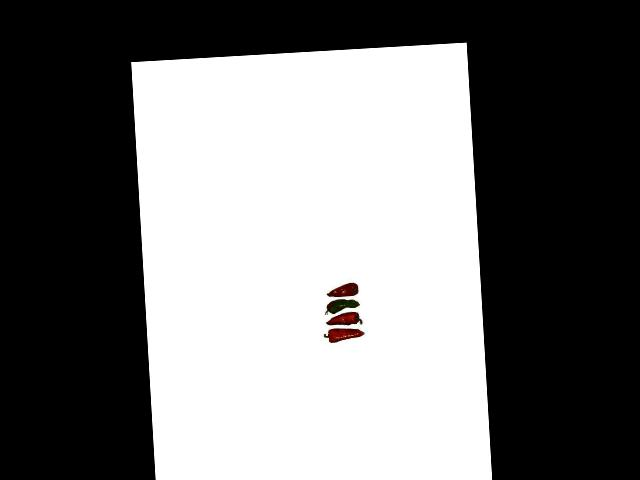bell_pepper: (323, 278, 359, 298)
